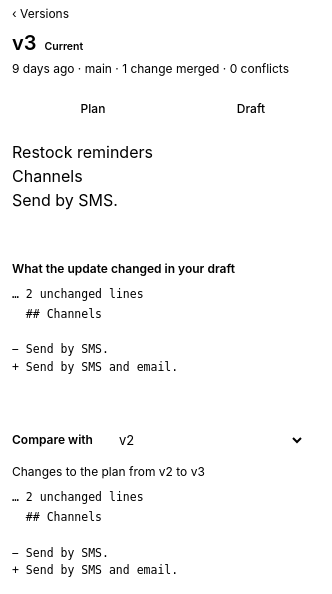
it: a version › compares the current version with the one before it, or with any other you pick
Expected: the text "Current" is shown, [44,39,83,55]
Select "v1" in the dropdown labelled "Compare with". click: (205, 440)
box: [105,425,305,455]
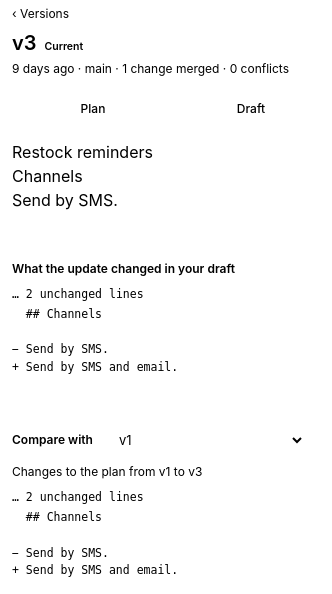
Now the text "Changes to the plan from v1 to v3" is shown, box [12,464,202,479]
